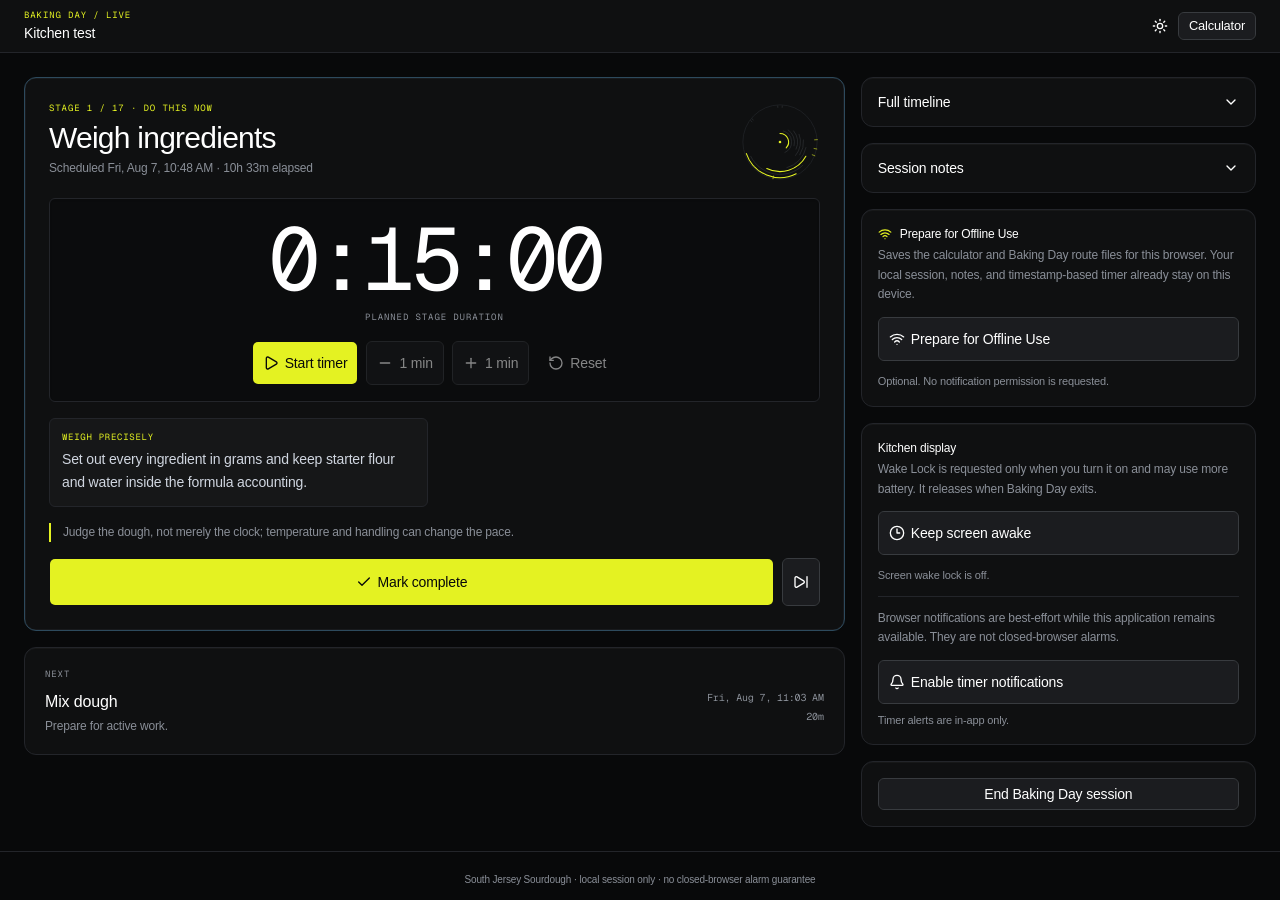
Baking Day behavior › renders the current task and persists timer start and pause
Expected: the heading "Kitchen test" is shown, [24, 25, 95, 41]
Expected: the heading "Weigh ingredients" is shown, [49, 120, 313, 156]
Click the button "Start timer".
click(305, 362)  # box [252, 340, 358, 384]
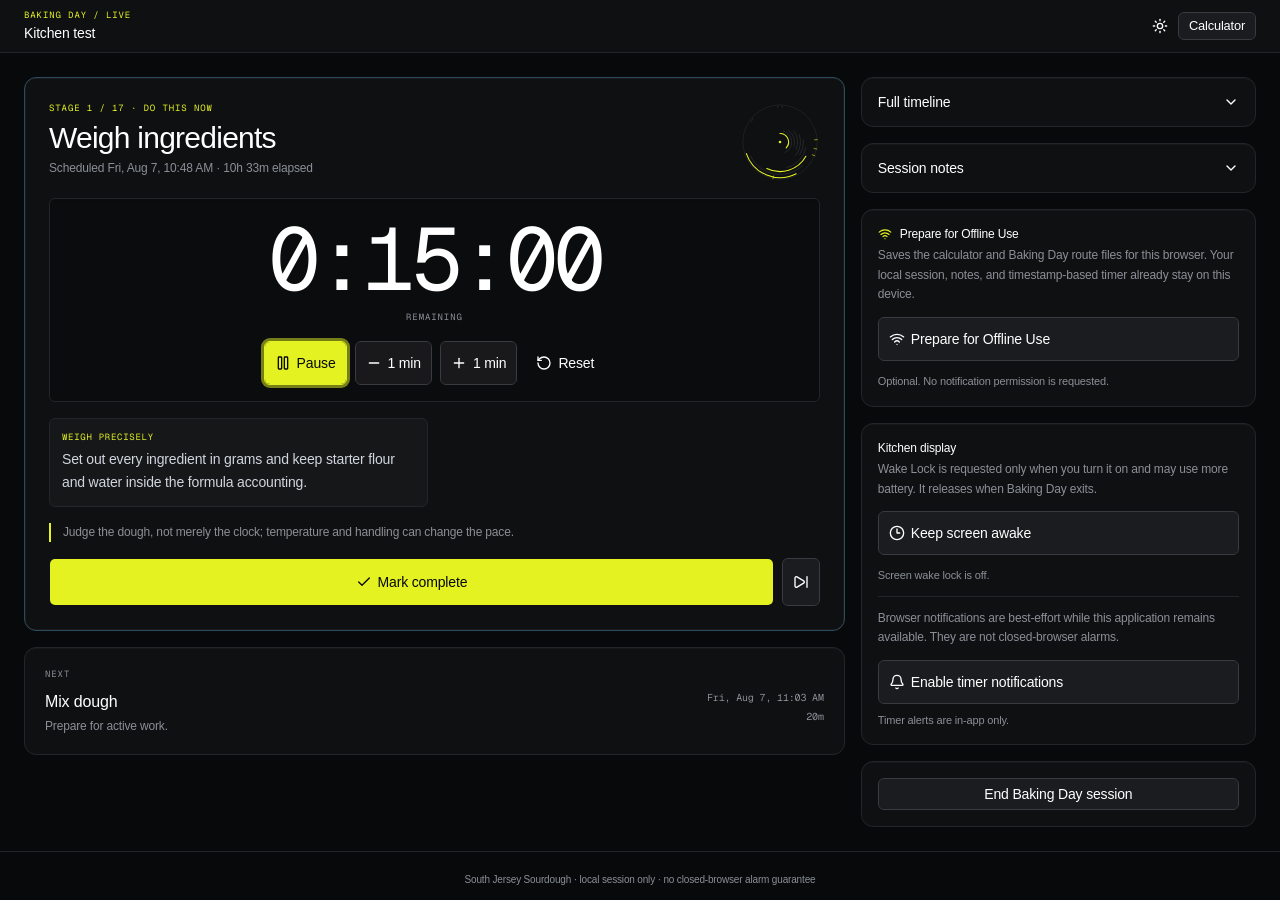
Click the button "Pause".
click(305, 362)  # box [264, 340, 346, 384]
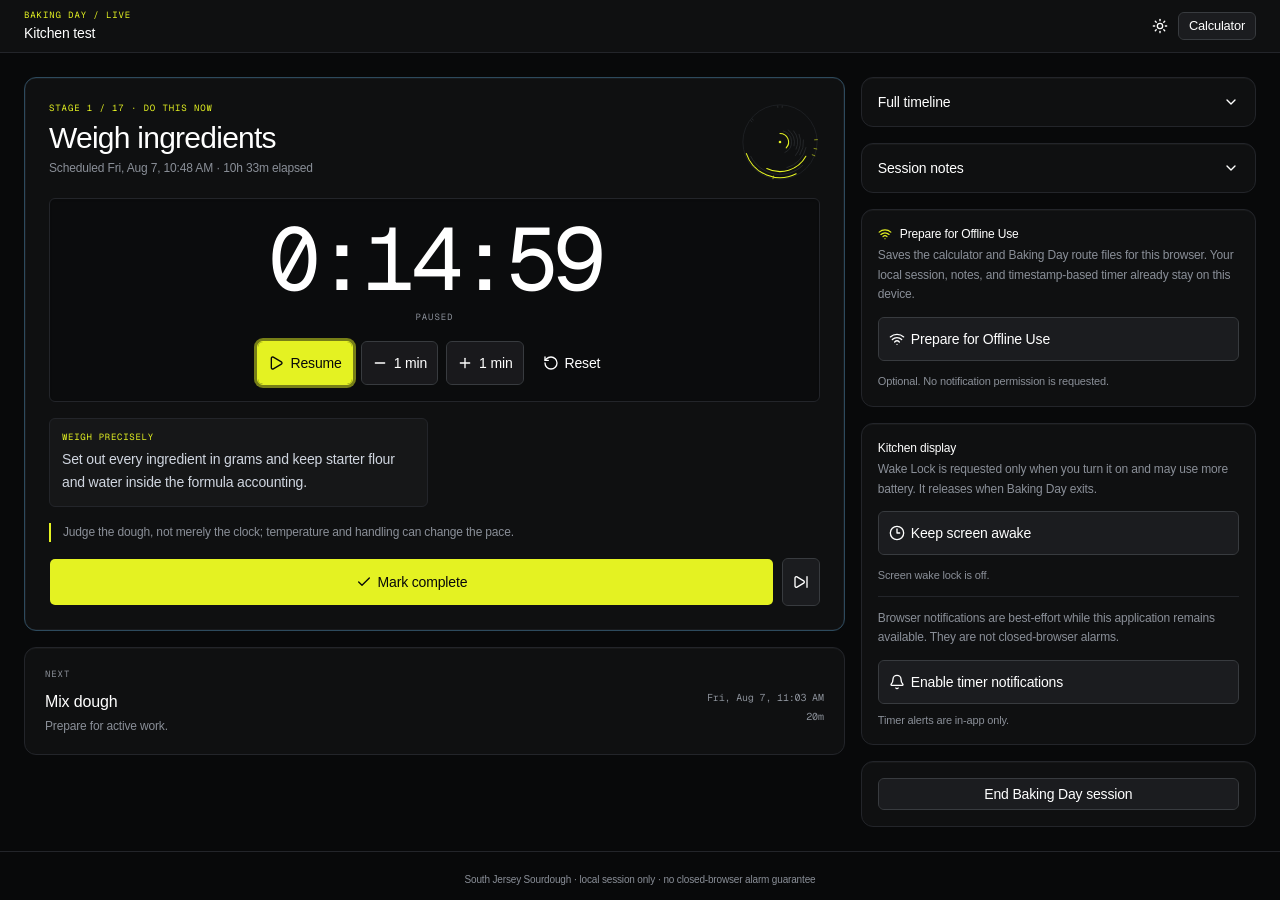
Now the button "Resume" is shown, box [258, 340, 353, 384]
